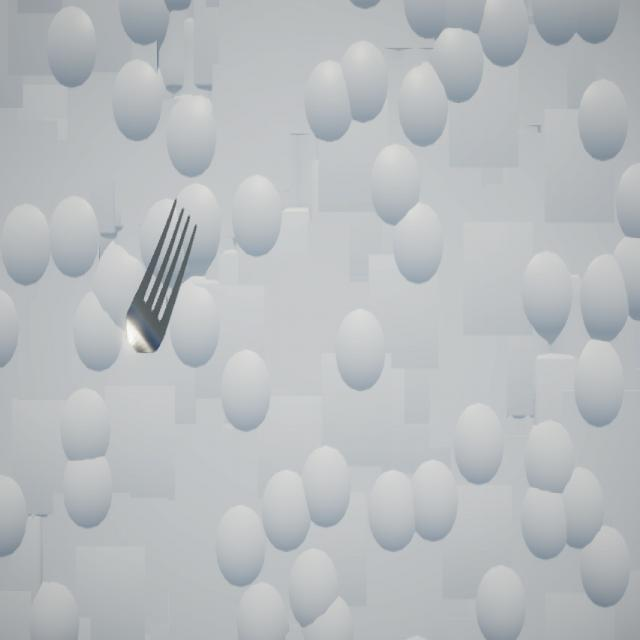top_folk: (127, 200, 199, 354)
